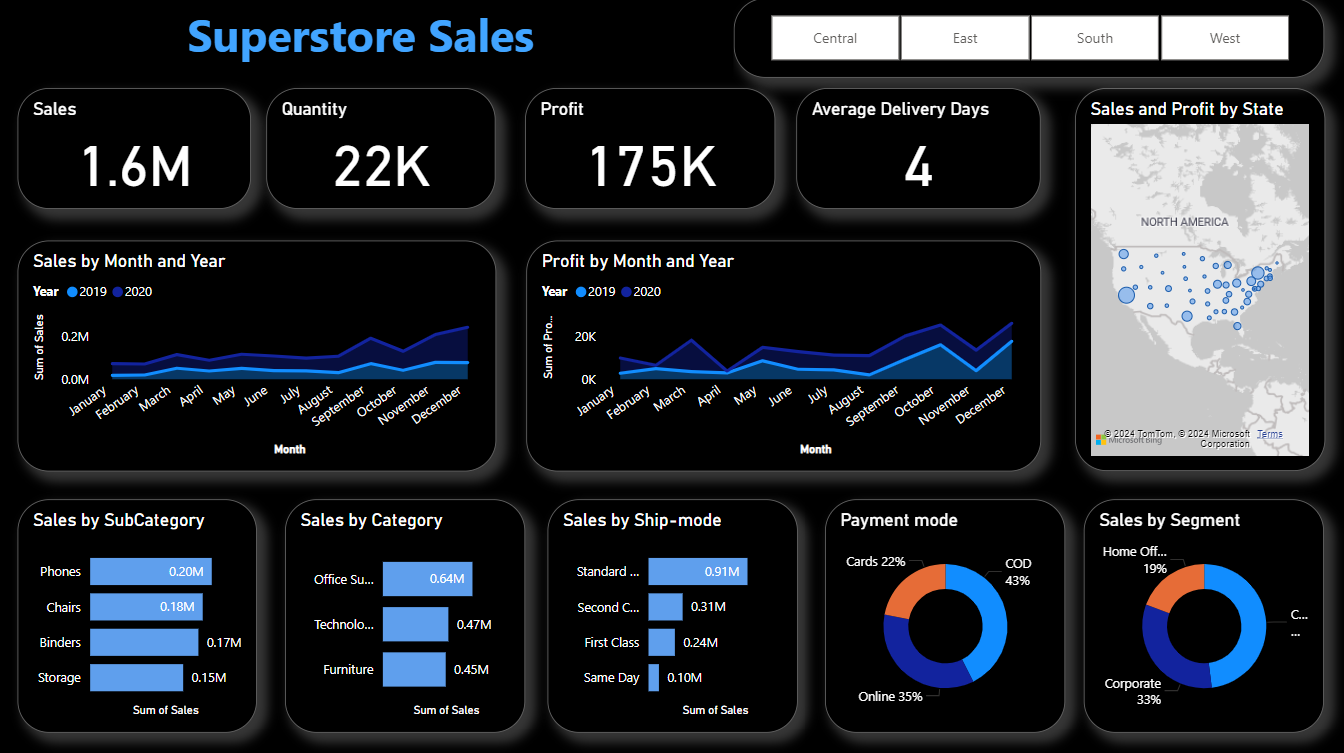

The dashboard page shown, as its layout file describes it:
{"tool":"powerbi","page":{"name":"Page 1","canvas":[1280,720],"ordinal":0},"visuals":[{"type":"clusteredBarChart","title":"Sales by Category","fields":{"Category":["SuperStore_Sales_Dataset.Category"],"Y":["Sum(SuperStore_Sales_Dataset.Sales)"]},"box":[270.9,477.9,229.1,222.1],"z":0},{"type":"clusteredBarChart","title":"Sales by SubCategory","fields":{"Category":["SuperStore_Sales_Dataset.Sub-Category"],"Y":["Sum(SuperStore_Sales_Dataset.Sales)"]},"box":[16.3,477.9,227.9,222.1],"z":1000},{"type":"clusteredBarChart","title":"Sales by Ship-mode","fields":{"Category":["SuperStore_Sales_Dataset.Ship Mode"],"Y":["Sum(SuperStore_Sales_Dataset.Sales)"]},"box":[520.9,477.9,238.4,222.1],"z":2000},{"type":"stackedAreaChart","title":"Sales by Month and Year","fields":{"Y":["Sum(SuperStore_Sales_Dataset.Sales)"],"Series":["SuperStore_Sales_Dataset.Order Date.Variation.Date Hierarchy.Year"],"Category":["SuperStore_Sales_Dataset.Order Date.Variation.Date Hierarchy.Month","SuperStore_Sales_Dataset.Order Date.Variation.Date Hierarchy.Day"]},"box":[16.3,231.4,455.8,219.8],"z":3000},{"type":"stackedAreaChart","title":"Profit by Month and Year","fields":{"Series":["SuperStore_Sales_Dataset.Order Date.Variation.Date Hierarchy.Year"],"Category":["SuperStore_Sales_Dataset.Order Date.Variation.Date Hierarchy.Month","SuperStore_Sales_Dataset.Order Date.Variation.Date Hierarchy.Day"],"Y":["Sum(SuperStore_Sales_Dataset.Profit)"]},"box":[501.2,231.4,490.7,219.8],"z":4000},{"type":"map","title":"Sales and Profit by State","fields":{"Category":["SuperStore_Sales_Dataset.State"],"Size":["Sum(SuperStore_Sales_Dataset.Sales)"]},"box":[1023.3,86,238.4,365.1],"z":5000},{"type":"donutChart","title":"Sales by Segment","fields":{"Category":["SuperStore_Sales_Dataset.Segment"],"Y":["Sum(SuperStore_Sales_Dataset.Sales)"]},"box":[1032.6,477.9,229.1,222.1],"z":6000},{"type":"donutChart","title":"Payment mode","fields":{"Category":["SuperStore_Sales_Dataset.Payment Mode"],"Y":["Sum(SuperStore_Sales_Dataset.Sales)"]},"box":[786,477.9,229.1,222.1],"z":7000},{"type":"slicer","fields":{"Values":["SuperStore_Sales_Dataset.Region"]},"box":[698.8,0,562.5,76.2],"z":8000},{"type":"textbox","box":[0,0,698.8,75],"z":9000},{"type":"card","title":"Sales","fields":{"Values":["Sum(SuperStore_Sales_Dataset.Sales)"]},"box":[16.2,86.2,222.5,115],"z":10000},{"type":"card","title":"Quantity","fields":{"Values":["Sum(SuperStore_Sales_Dataset.Quantity)"]},"box":[253.8,86.2,218.8,115],"z":11000},{"type":"card","title":"Profit","fields":{"Values":["Sum(SuperStore_Sales_Dataset.Profit)"]},"box":[500,86.2,238.8,115],"z":12000},{"type":"card","title":"Average Delivery Days","fields":{"Values":["Avg(SuperStore_Sales_Dataset.AvgDelivery)"]},"box":[758.8,86.2,232.5,115],"z":13000}]}

Visuals, with their boxes in screenshot pixels (x1, y1, x2, y2), scaled from the page's 1280x720 canvas onto the 1344x753 screenshot:
"Sales by Category" clusteredBarChart: <bbox>284, 500, 525, 732</bbox>
"Sales by SubCategory" clusteredBarChart: <bbox>17, 500, 256, 732</bbox>
"Sales by Ship-mode" clusteredBarChart: <bbox>547, 500, 797, 732</bbox>
"Sales by Month and Year" stackedAreaChart: <bbox>17, 242, 496, 472</bbox>
"Profit by Month and Year" stackedAreaChart: <bbox>526, 242, 1041, 472</bbox>
"Sales and Profit by State" map: <bbox>1074, 90, 1325, 472</bbox>
"Sales by Segment" donutChart: <bbox>1084, 500, 1325, 732</bbox>
"Payment mode" donutChart: <bbox>825, 500, 1066, 732</bbox>
slicer - SuperStore_Sales_Dataset.Region: <bbox>734, 0, 1324, 80</bbox>
textbox: <bbox>0, 0, 734, 78</bbox>
"Sales" card: <bbox>17, 90, 251, 210</bbox>
"Quantity" card: <bbox>266, 90, 496, 210</bbox>
"Profit" card: <bbox>525, 90, 776, 210</bbox>
"Average Delivery Days" card: <bbox>797, 90, 1041, 210</bbox>
